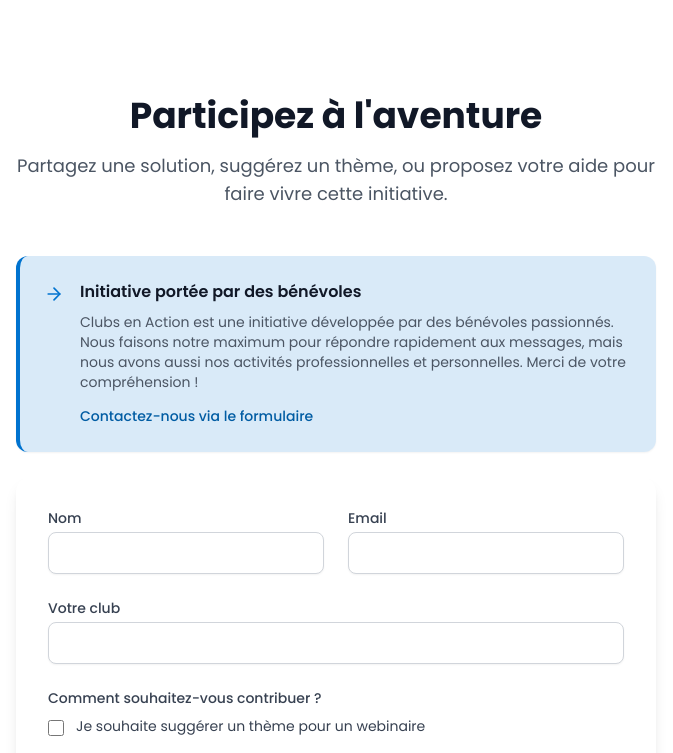
Test: Formulaire de contact › affiche un message d'erreur si la soumission échoue
In the field labelled "Nom": (186, 553) x1=48 y1=532 x2=324 y2=574, type "Test User"
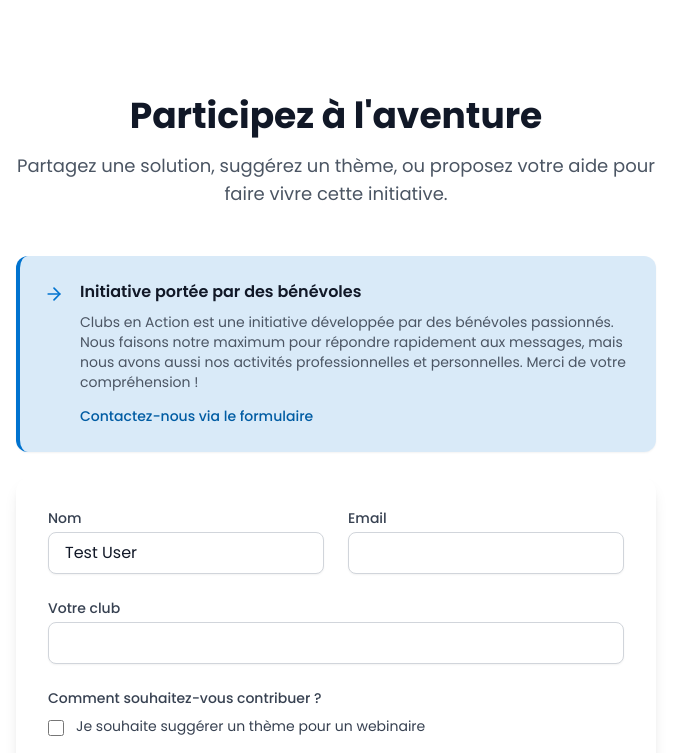
In the field labelled "Email": (486, 553) x1=348 y1=532 x2=624 y2=574, type "test@example.com"
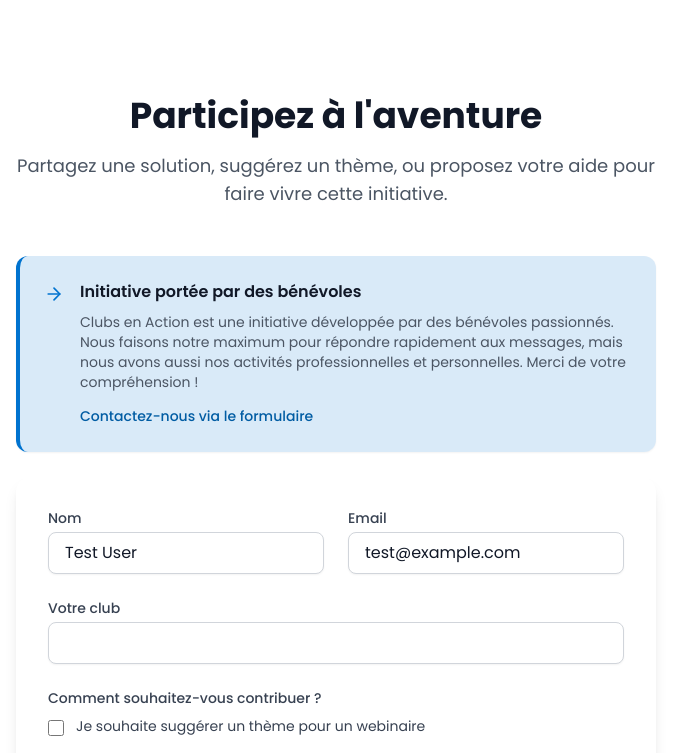
In the field labelled "Votre club": (336, 643) x1=48 y1=622 x2=624 y2=664, type "Club Test"
(page scrolled)
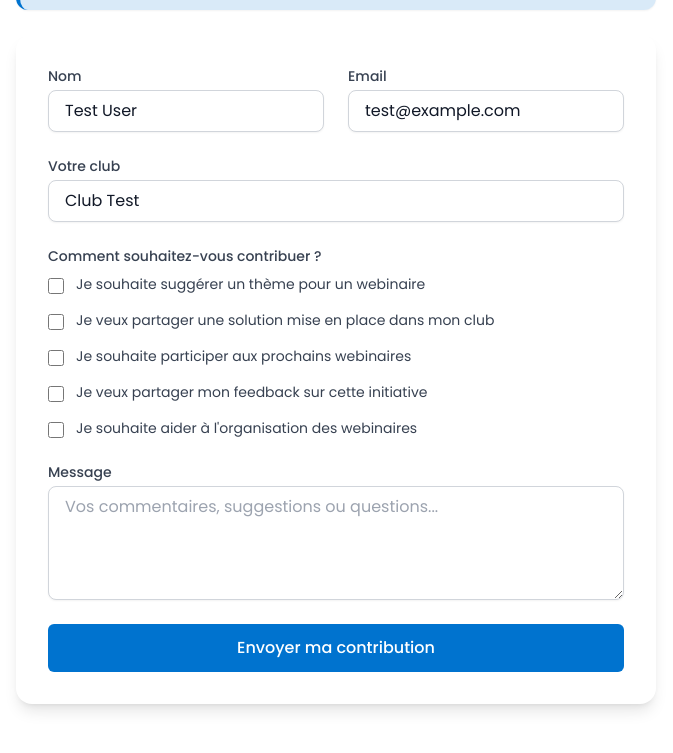
In the text box labelled "Message": (336, 543) x1=48 y1=486 x2=624 y2=600, type "Ceci est un message de test"
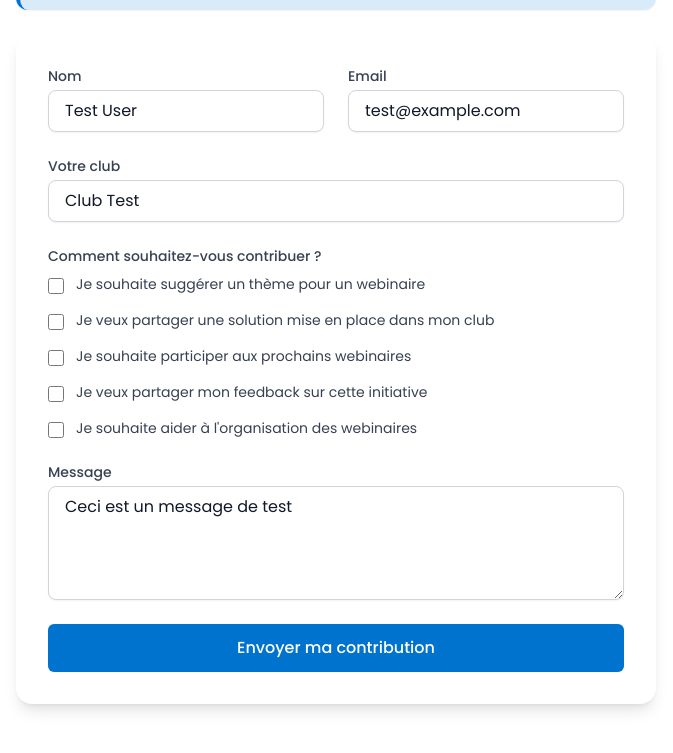
Click the button "Envoyer ma contribution": click(336, 648) x1=48 y1=624 x2=624 y2=672
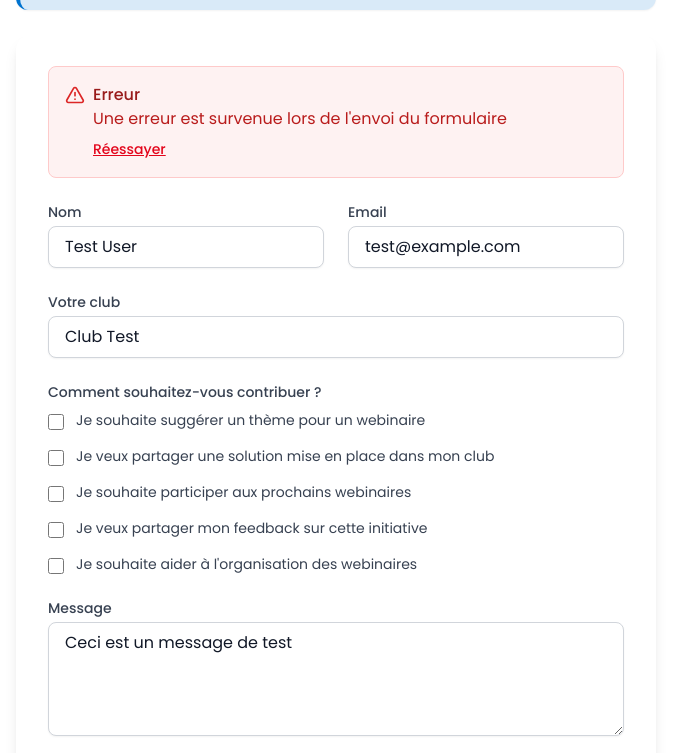
expect the text "Erreur" is shown: met, box x1=93 y1=83 x2=140 y2=106
expect the text "Une erreur est survenue lors de l'envoi du formulaire" is shown: met, box x1=93 y1=107 x2=507 y2=131
